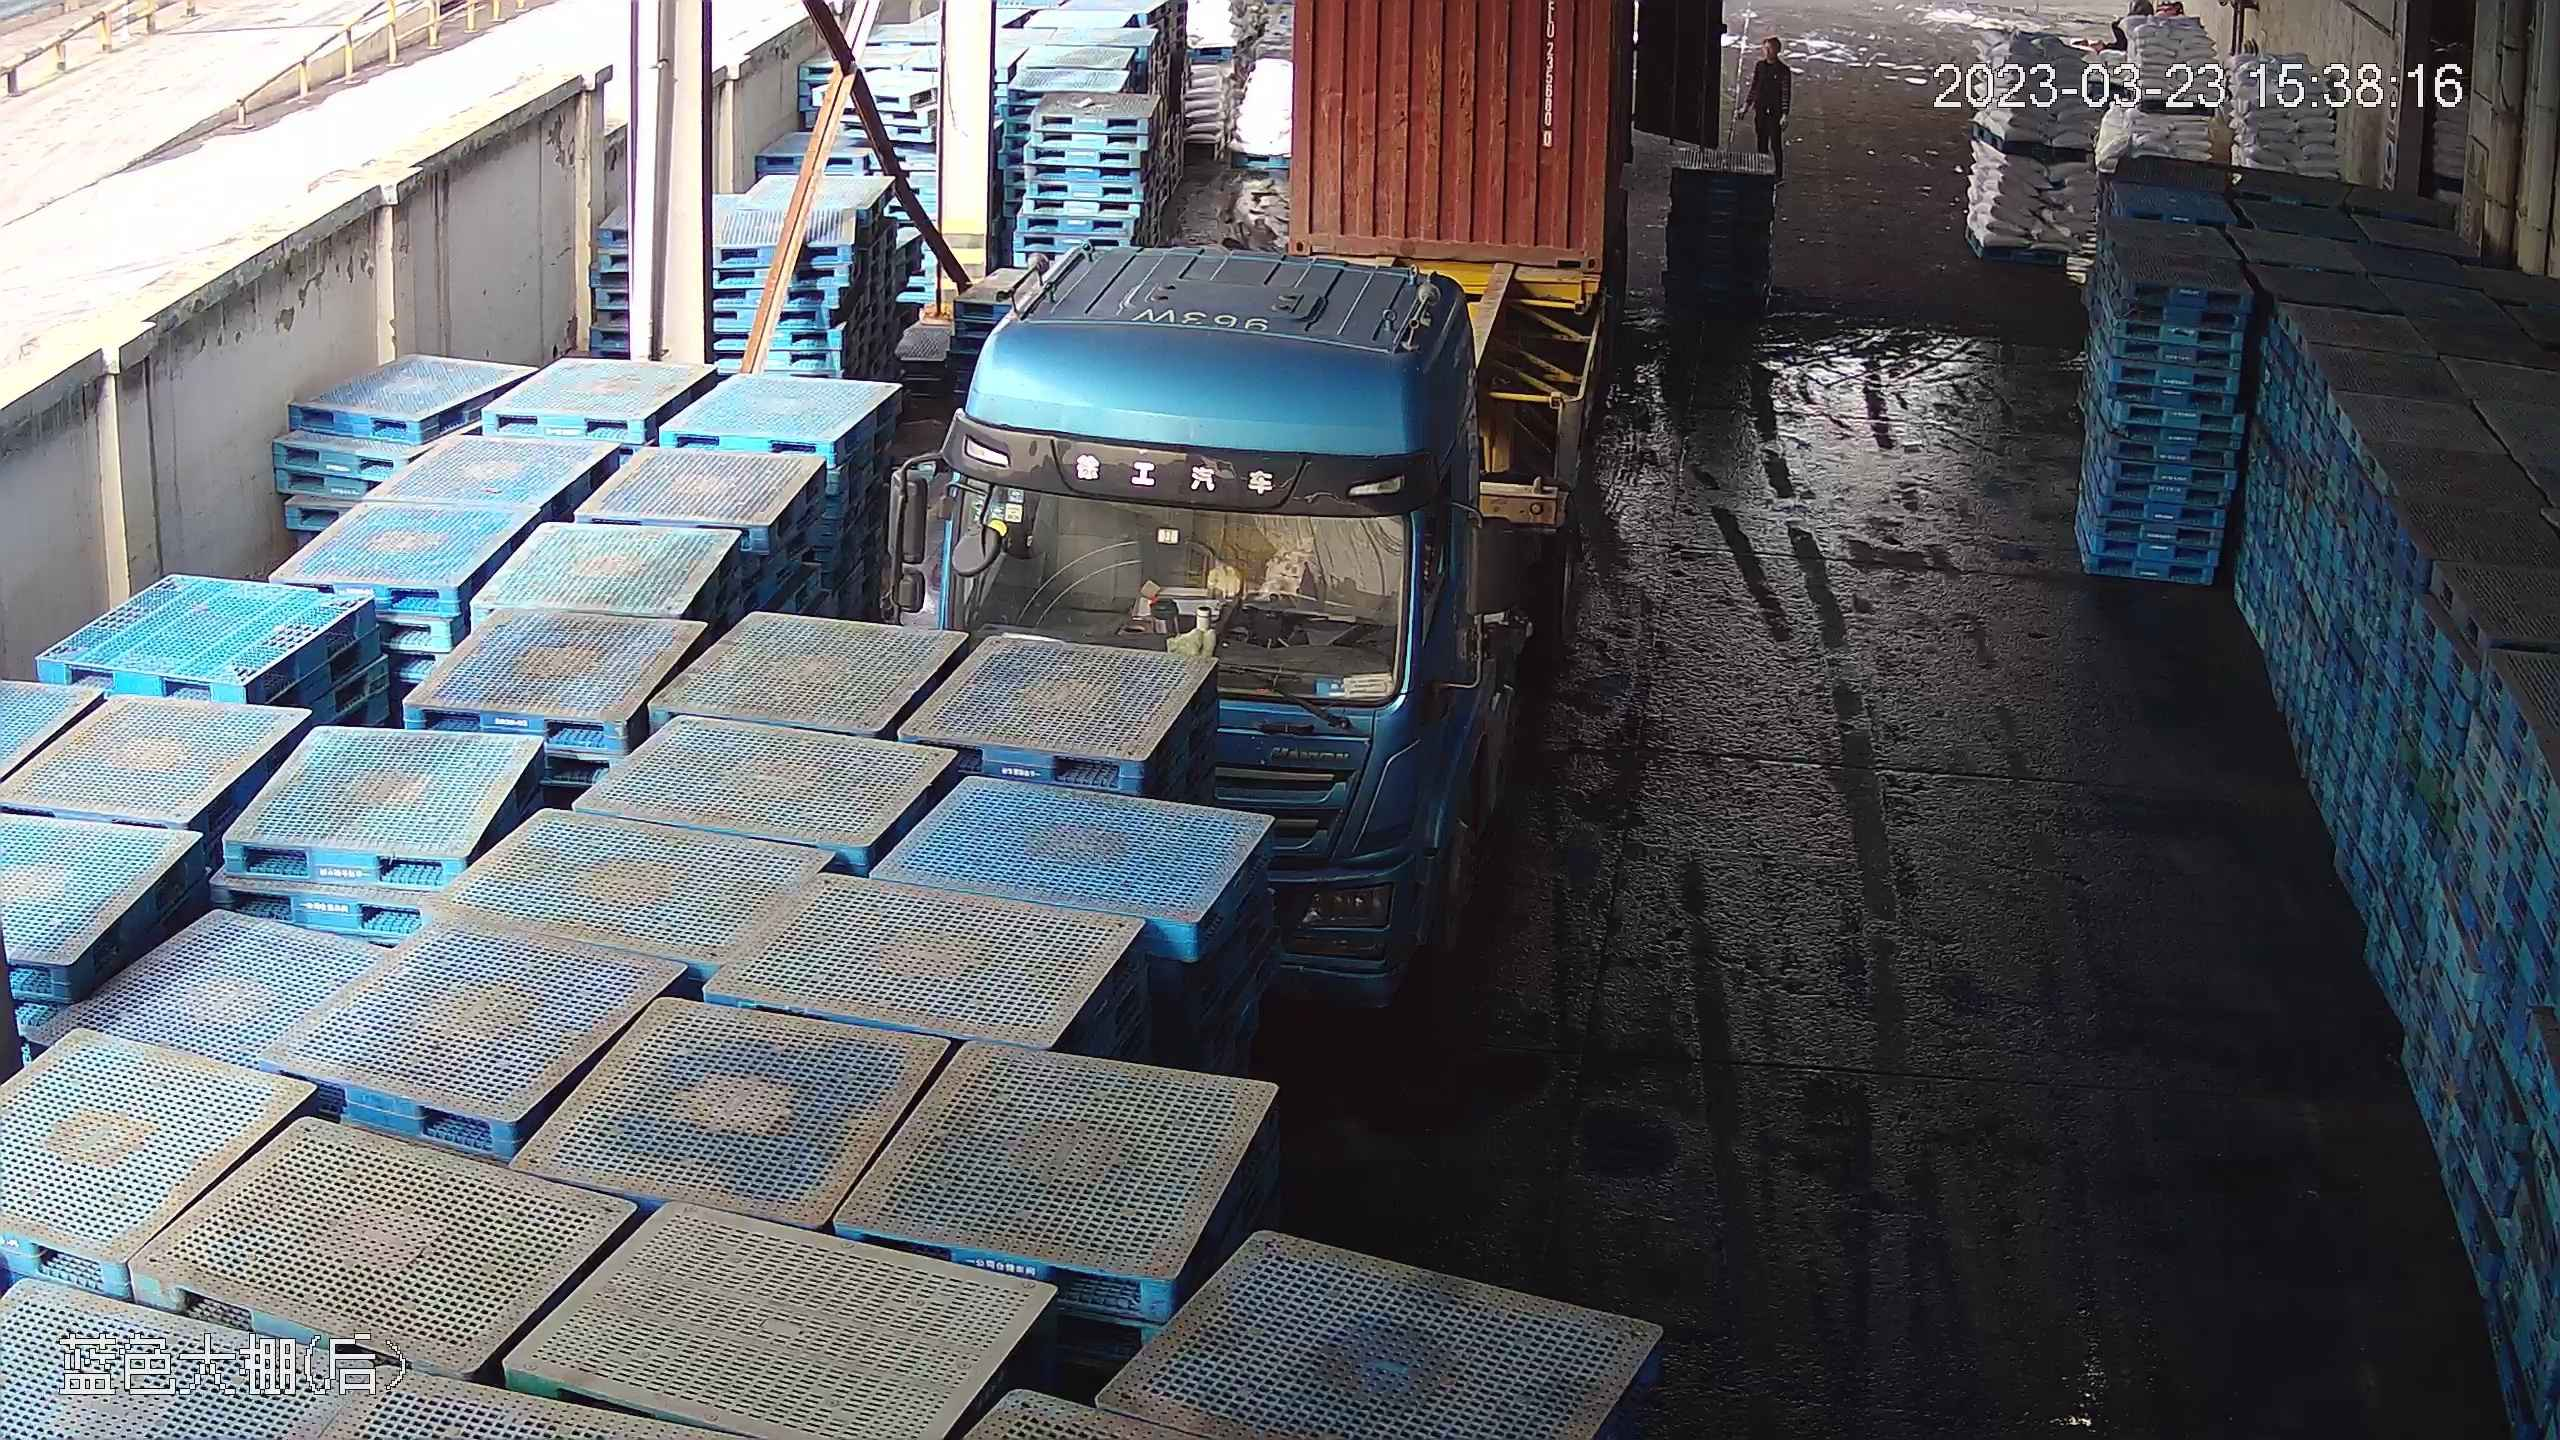head: (1753, 38, 1790, 80)
helmet: (1767, 36, 1782, 50)
people: (1749, 38, 1790, 160)
truck: (898, 1, 1596, 950)
